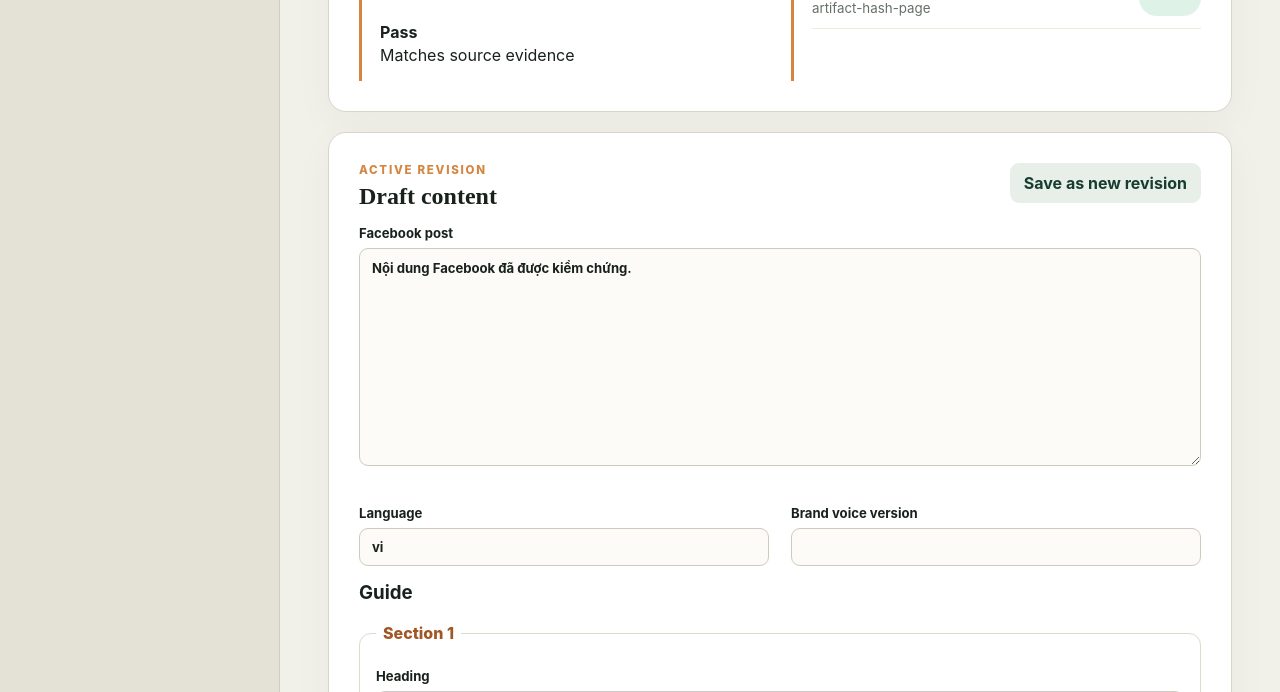
Test: Review dashboard UI › labels old evidence as superseded after an immutable edit and removes approval controls
This screenshot has width=1280, height=692.
(page scrolled)
Replace the text in the text box labelled "Facebook post" with "Nội dung đã sửa và phải kiểm chứng lại." at [780, 357], box [359,248,1201,466]
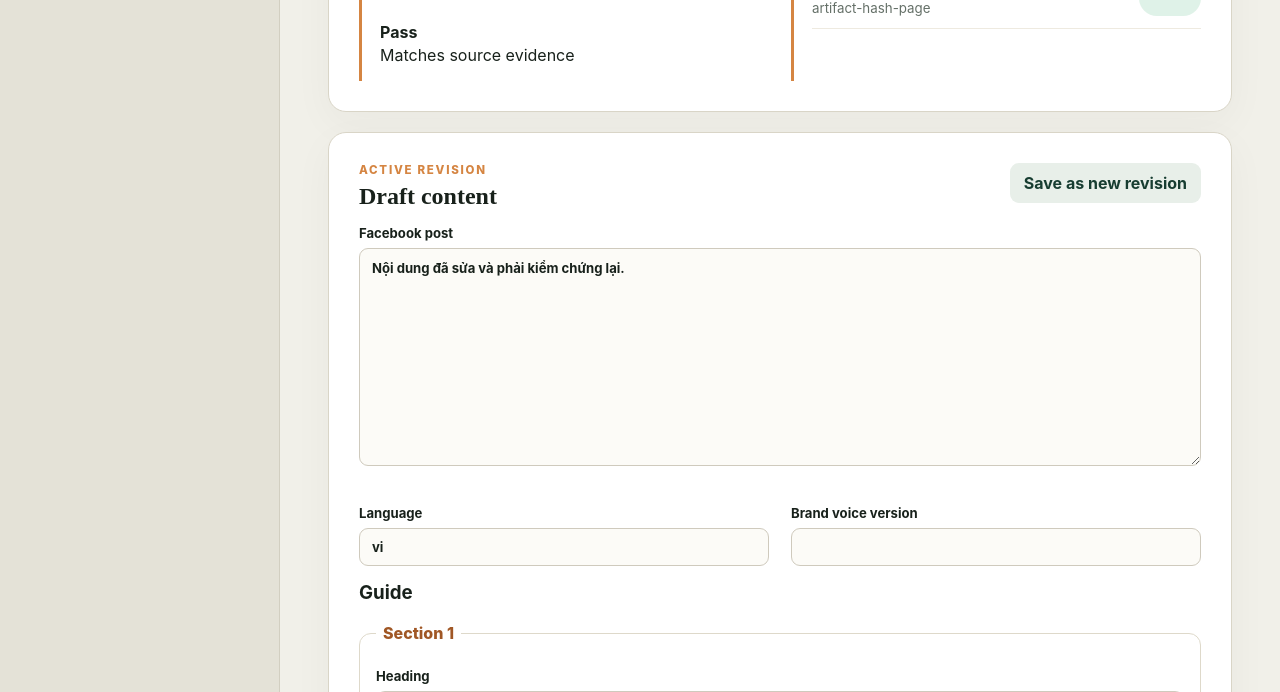
Click the button "Save as new revision" at [1105, 183], box [1010,163,1201,203]
(page scrolled)
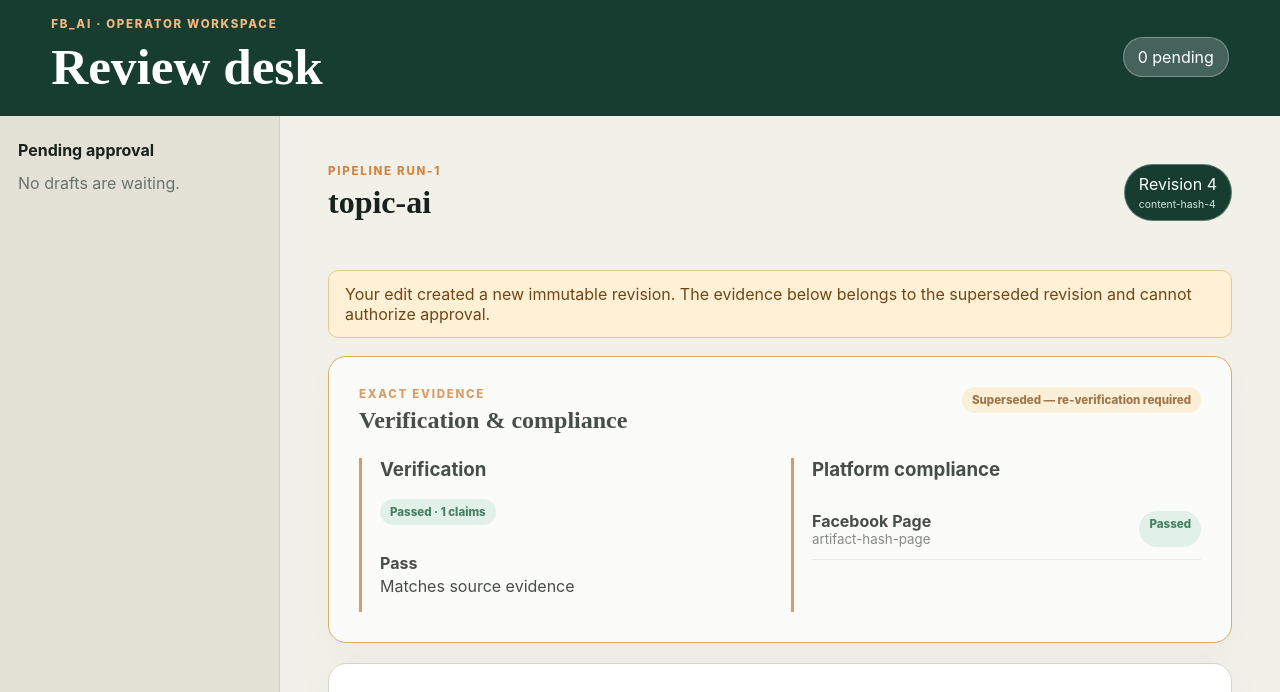
Now the text "Superseded — re-verification required" is shown, box [962,386,1201,412]
Now the text "new immutable revision" is shown, box [345,284,1192,324]
